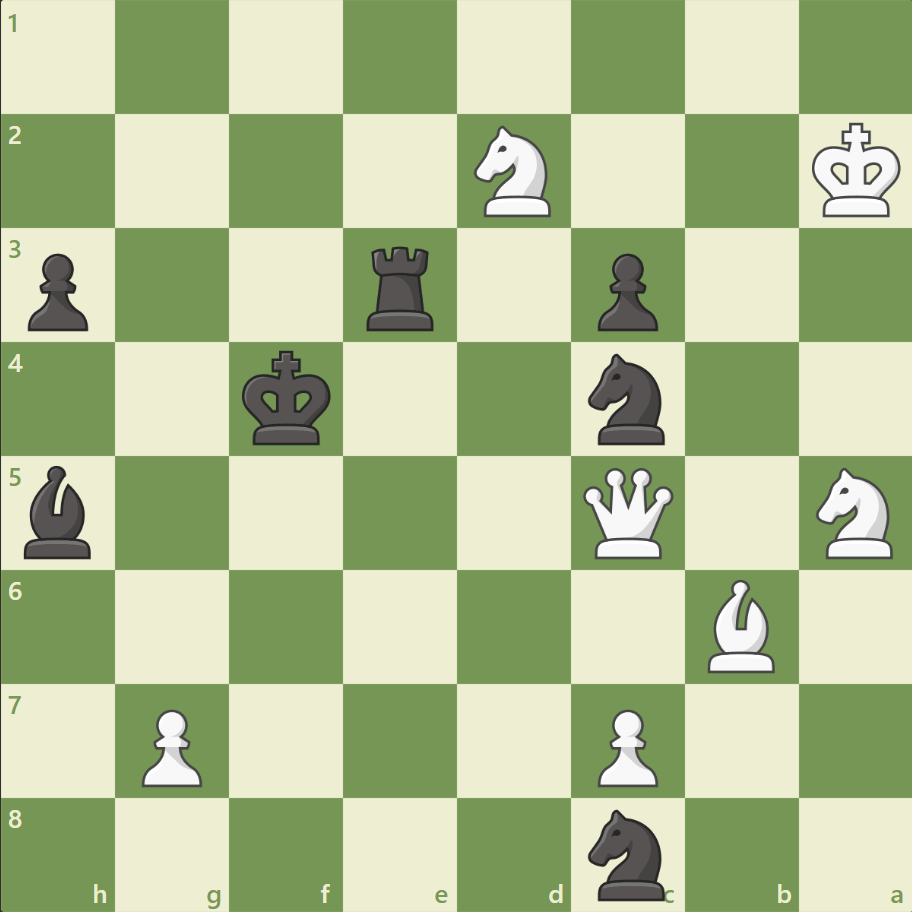B: (698, 574, 782, 676)
K: (806, 117, 906, 225)
N: (806, 461, 903, 564), (465, 121, 562, 223)
P: (133, 700, 208, 791), (588, 700, 662, 791)
Q: (578, 463, 677, 562)
b: (17, 460, 101, 563)
k: (238, 344, 338, 452)
n: (579, 802, 676, 904), (579, 348, 676, 450)
p: (20, 246, 95, 337), (588, 246, 662, 337)
r: (360, 239, 442, 336)
